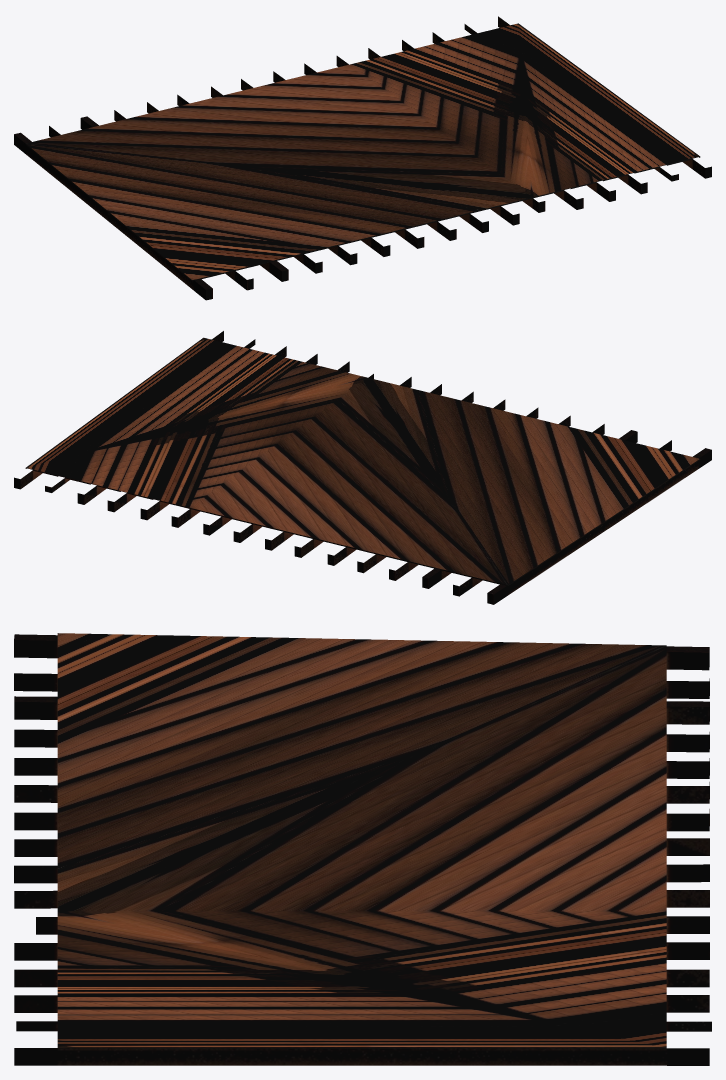
Rendered from tramy.gltf.
The picture shows the model from 3 angles, top to bottom: view 1: azimuth 30°, elevation 25°; view 2: azimuth 150°, elevation 25°; view 3: azimuth 270°, elevation 25°; orthographic projection. The views are drawn at different scales.
Visible parts, largest first — view 1: Floor _Obecná stropní deska 30 [651244], Object016; view 2: Floor _Obecná stropní deska 30 [651244], Object016; view 3: Floor _Obecná stropní deska 30 [651244], Object016.
Boxes of the visible parts, <box> form: Floor _Obecná stropní deska 30 [651244]: <box>25,23,700,281</box>; Object016: <box>14,16,711,300</box>; Floor _Obecná stropní deska 30 [651244]: <box>25,337,700,586</box>; Object016: <box>14,331,711,604</box>; Floor _Obecná stropní deska 30 [651244]: <box>57,633,666,1050</box>; Object016: <box>14,634,711,1065</box>.
Bounding box in the file's own units: 1.36 × 0.028 × 0.967.
Materials: 1 (1 with a texture image).
